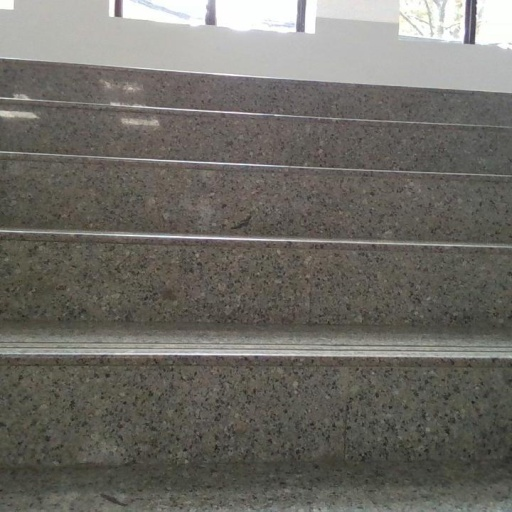Stairs: (0, 59, 512, 512)
